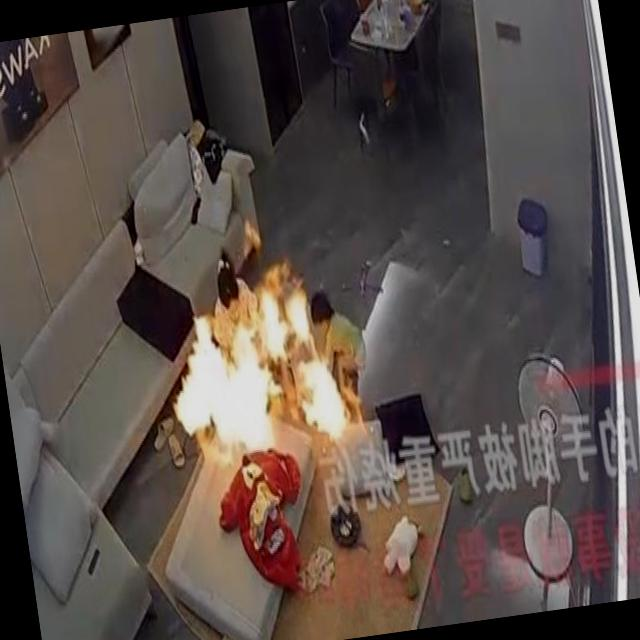fire: (152, 243, 366, 496)
